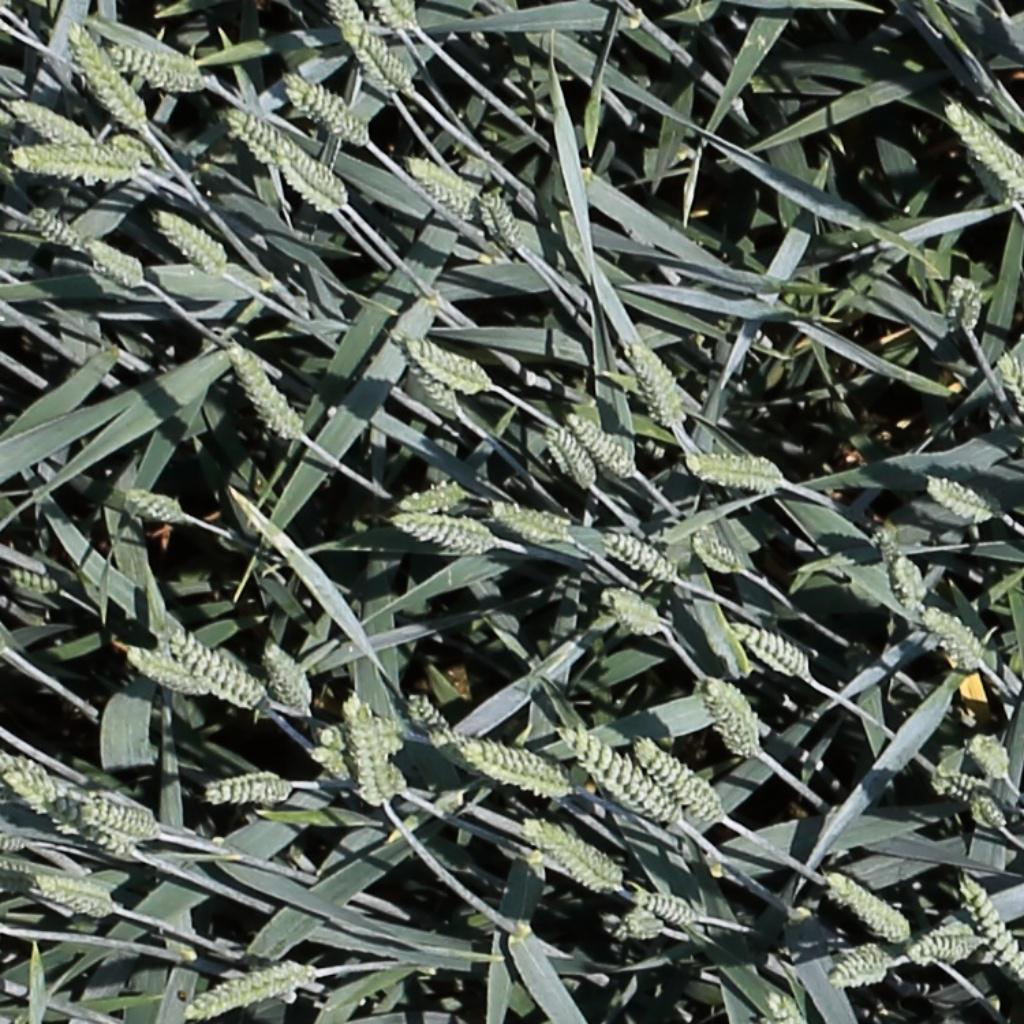0-0: (0, 746, 144, 856), (562, 727, 678, 827), (64, 19, 151, 133), (223, 335, 305, 442), (444, 727, 571, 796), (954, 868, 1024, 991), (944, 96, 1024, 203), (163, 626, 264, 707), (46, 779, 170, 843), (637, 738, 727, 823), (182, 966, 309, 1018), (273, 147, 364, 216), (527, 824, 618, 891), (626, 331, 686, 431), (285, 75, 372, 143), (830, 873, 913, 943), (345, 693, 395, 809), (222, 106, 298, 178), (406, 155, 486, 221), (10, 144, 137, 184), (362, 28, 425, 107), (700, 674, 760, 756), (204, 760, 297, 812), (155, 208, 228, 273), (260, 636, 316, 719), (567, 412, 638, 477), (731, 622, 813, 678), (405, 338, 491, 389), (543, 420, 602, 492), (9, 96, 92, 146), (404, 352, 465, 420), (125, 648, 207, 697), (604, 532, 681, 582), (477, 181, 531, 252), (922, 608, 988, 666), (393, 513, 495, 550), (109, 50, 204, 88), (927, 477, 1002, 520), (492, 502, 572, 542), (323, 0, 375, 61), (37, 864, 118, 903), (891, 547, 933, 622), (688, 458, 786, 490), (27, 204, 91, 251), (966, 733, 1014, 789), (398, 476, 470, 513), (405, 689, 454, 740), (604, 592, 666, 632), (88, 238, 144, 282), (632, 890, 701, 925), (912, 923, 977, 959), (993, 346, 1024, 421), (693, 533, 746, 576), (124, 487, 185, 524), (831, 953, 895, 987), (112, 136, 172, 171), (309, 742, 356, 785), (940, 766, 993, 804), (951, 271, 981, 338), (969, 791, 1011, 836), (596, 912, 665, 939), (0, 855, 44, 895), (765, 984, 805, 1024), (867, 520, 897, 572), (5, 567, 61, 593), (383, 1, 419, 31), (0, 84, 13, 124)
